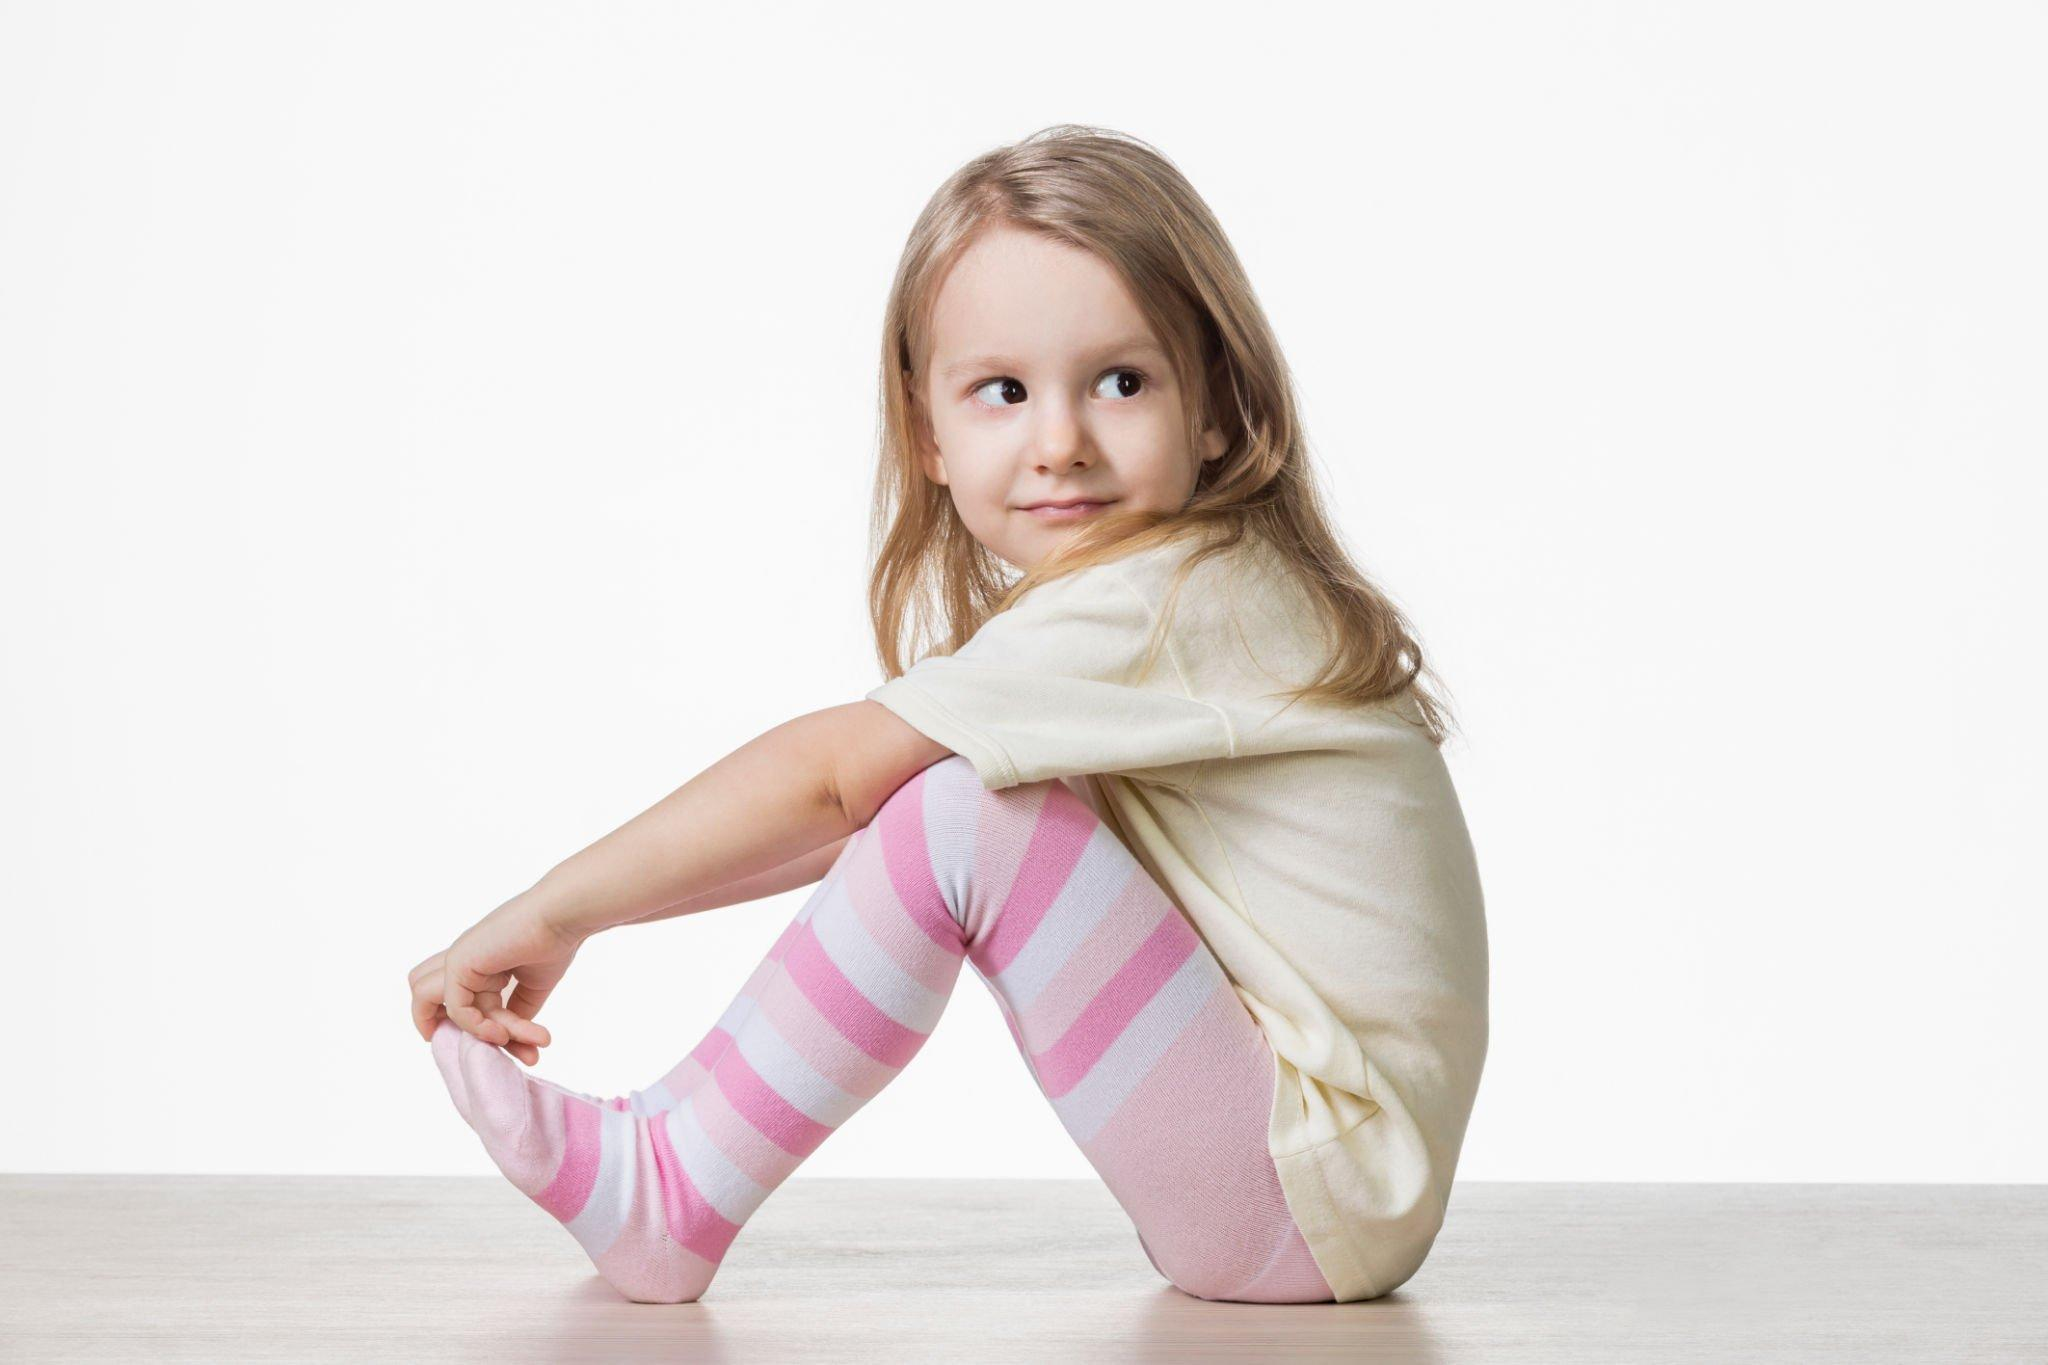Healthy: (882, 197, 1215, 576)
